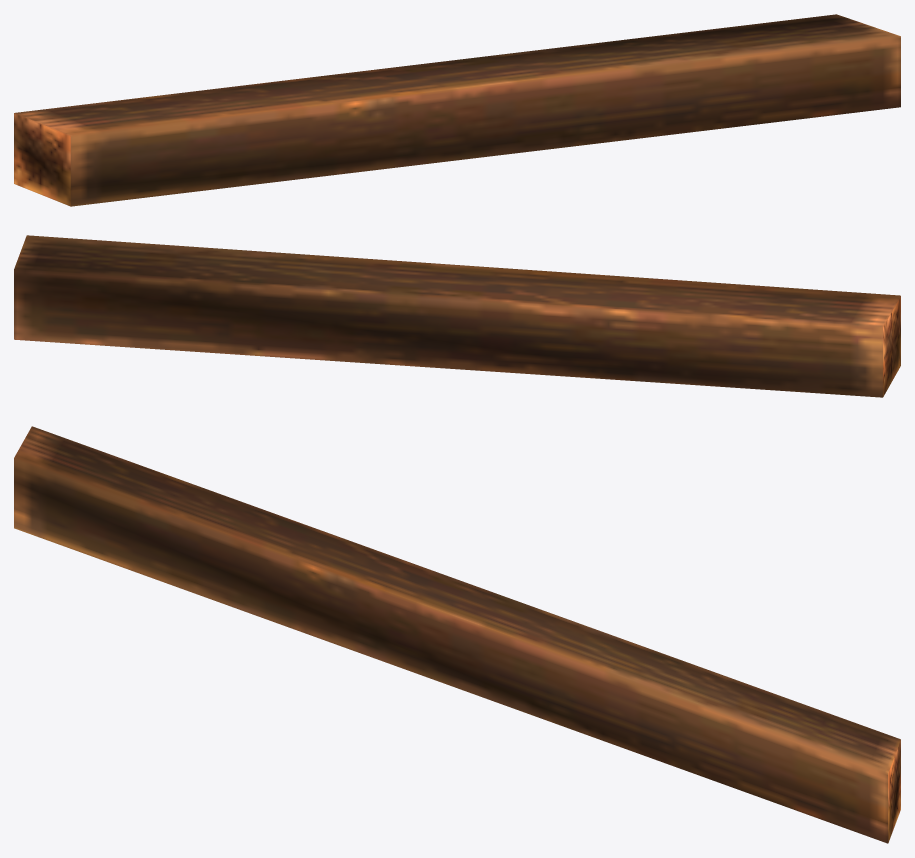
Rendered from SWORDLIGHT20_JAILBRACE52.fbx.
3 renders of one model, top to bottom at view 1: azimuth 30°, elevation 25°; view 2: azimuth 150°, elevation 25°; view 3: azimuth 330°, elevation 25°, orthographic.
Visible parts, largest first — view 1: SWORDLIGHT20_JAILBRACE52; view 2: SWORDLIGHT20_JAILBRACE52; view 3: SWORDLIGHT20_JAILBRACE52.
Part boxes in pixels (box(x1,y1,x2,y2)): SWORDLIGHT20_JAILBRACE52: box(14, 14, 900, 206); SWORDLIGHT20_JAILBRACE52: box(14, 235, 900, 397); SWORDLIGHT20_JAILBRACE52: box(14, 426, 900, 843).
Size of the model in its own units: 51680 by 11266 by 6637.
1 material, 1 textured.
